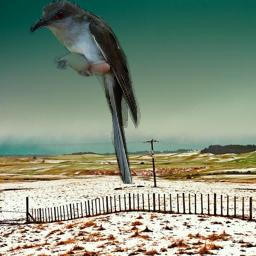Cuckoo: (29, 0, 141, 184)
